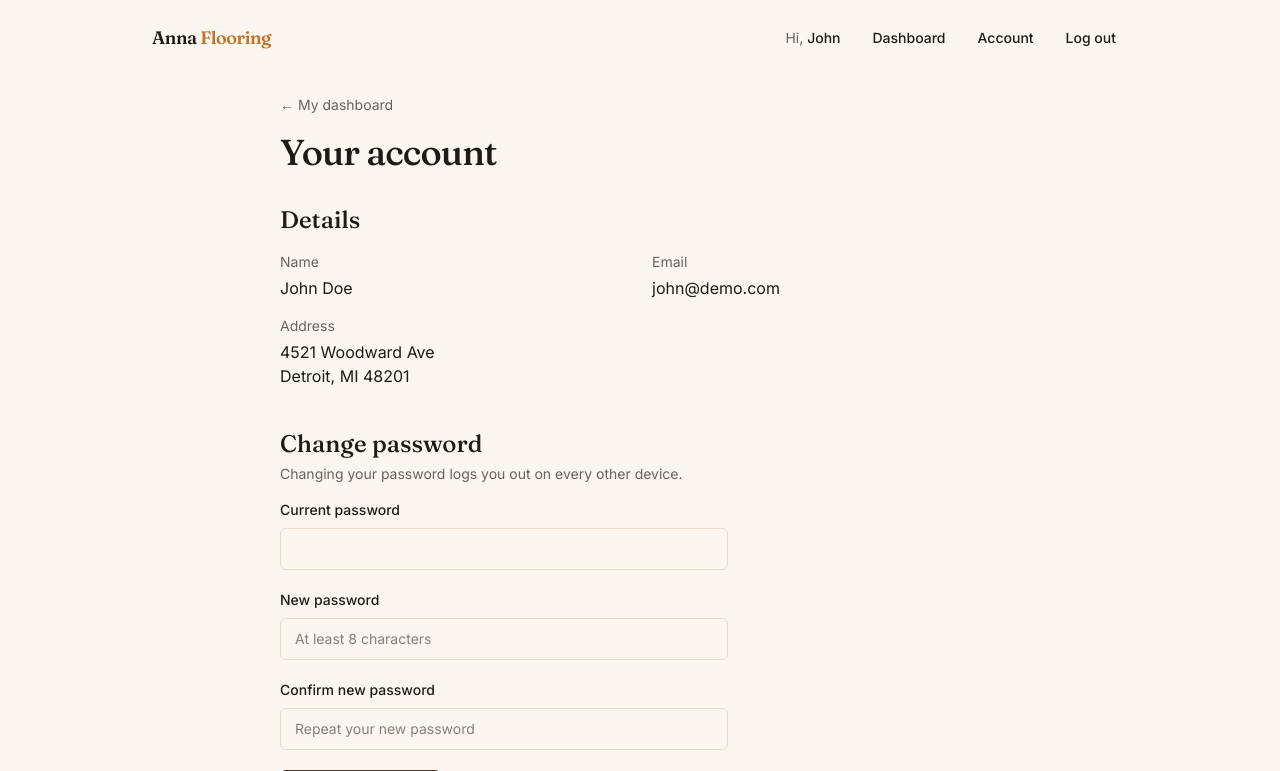
Test: ClientAccount › changes the password and clears the form
Type "John@123456" into the password field labelled "Current password" at (504,549), box [280,528,728,570]
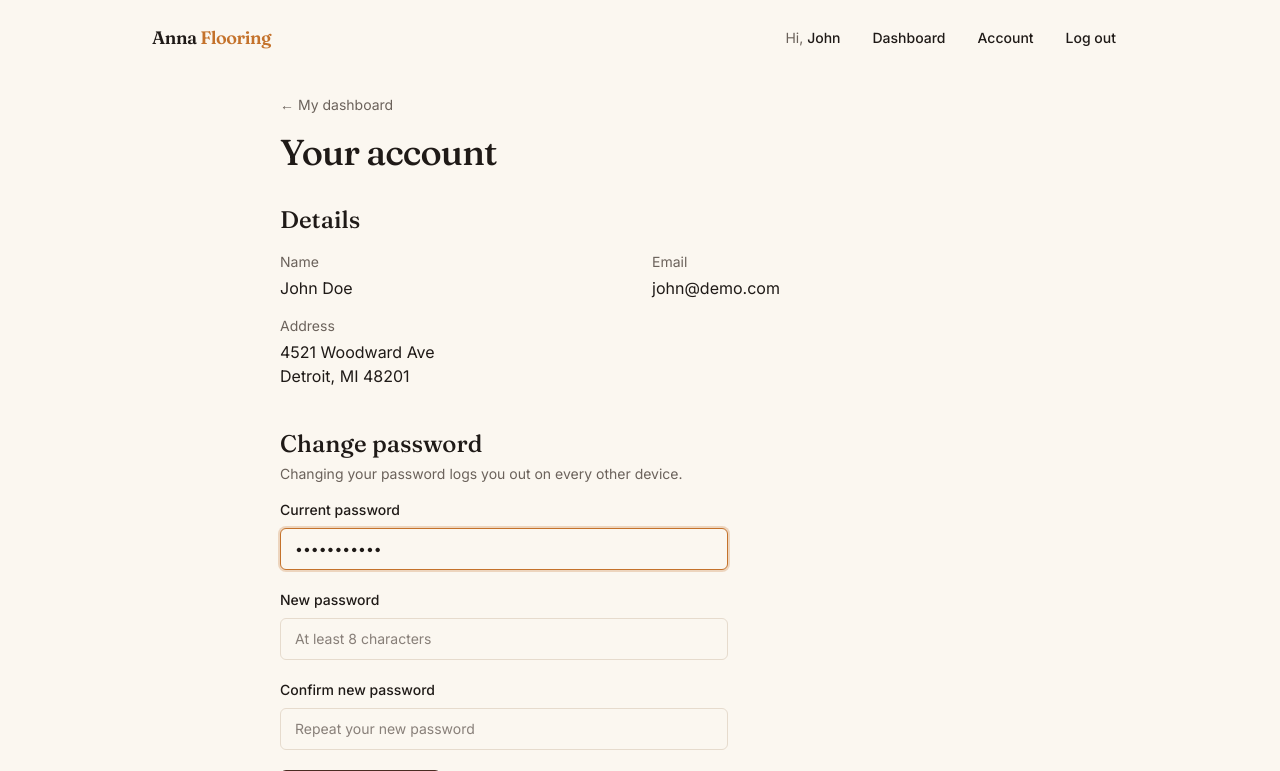
Type "NewPassword456" into the password field labelled "New password" at (504,639), box [280,618,728,660]
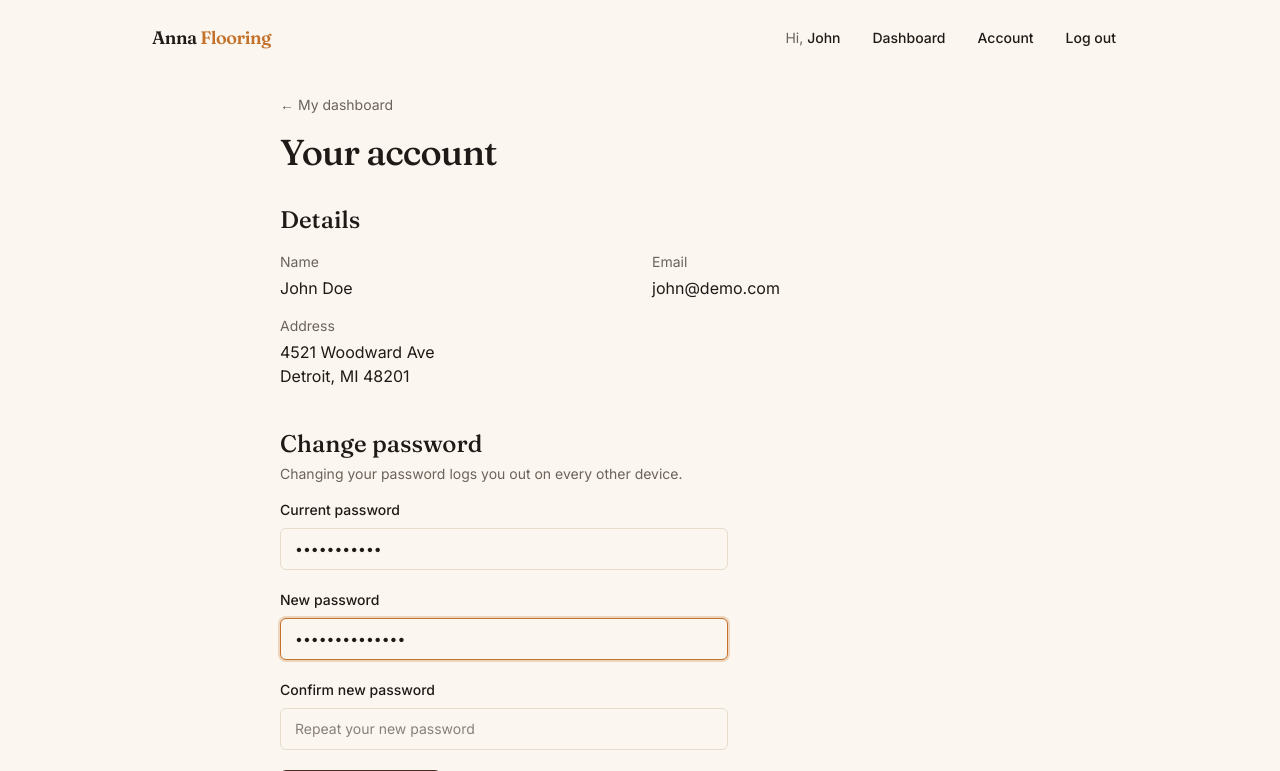
Type "NewPassword456" into the password field labelled "Confirm new password" at (504,729), box [280,708,728,750]
(page scrolled)
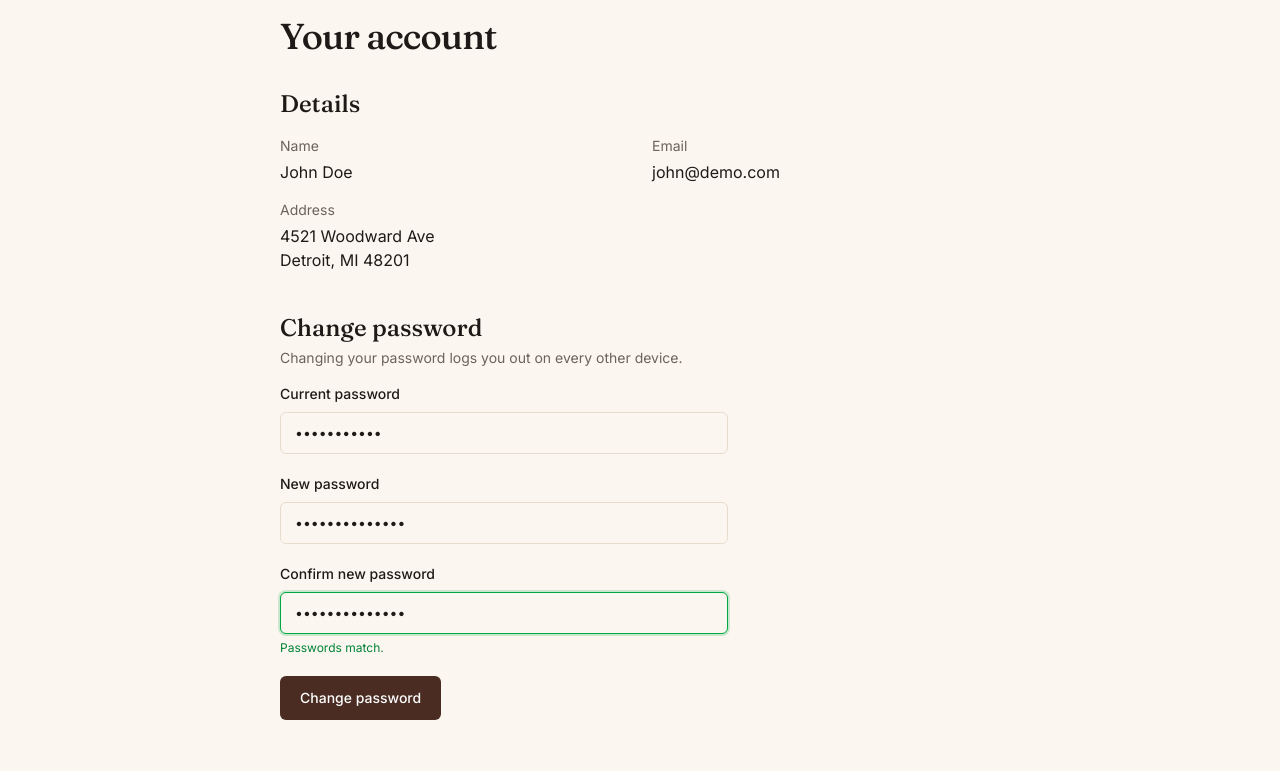
Click the button "Change password" at (361,698), box [280,676,441,720]
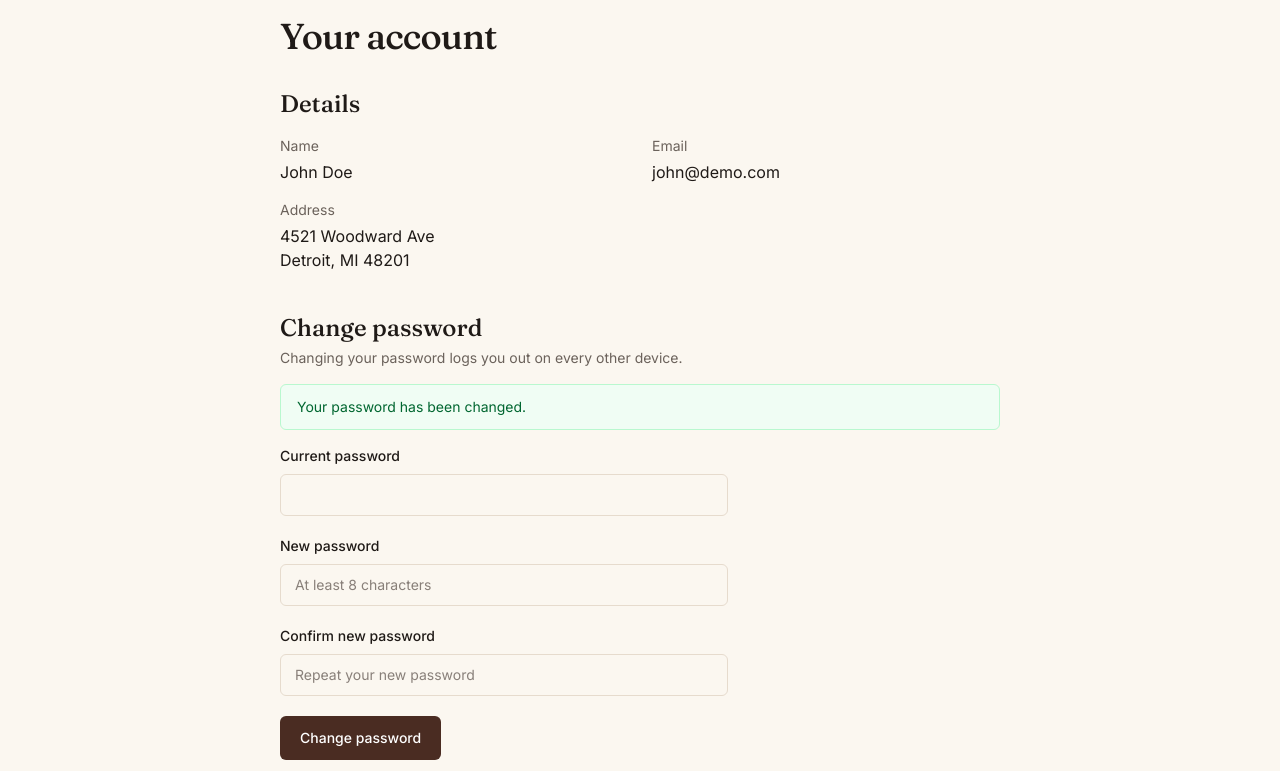
Now the message reads "Your password has been changed.", box [297,398,526,415]
Now the password field labelled "Current password" is empty, box [280,474,728,516]
